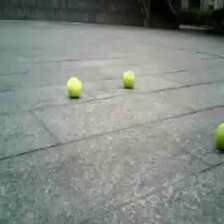tennis: (66, 77, 81, 96), (215, 120, 224, 150), (122, 71, 135, 88)
